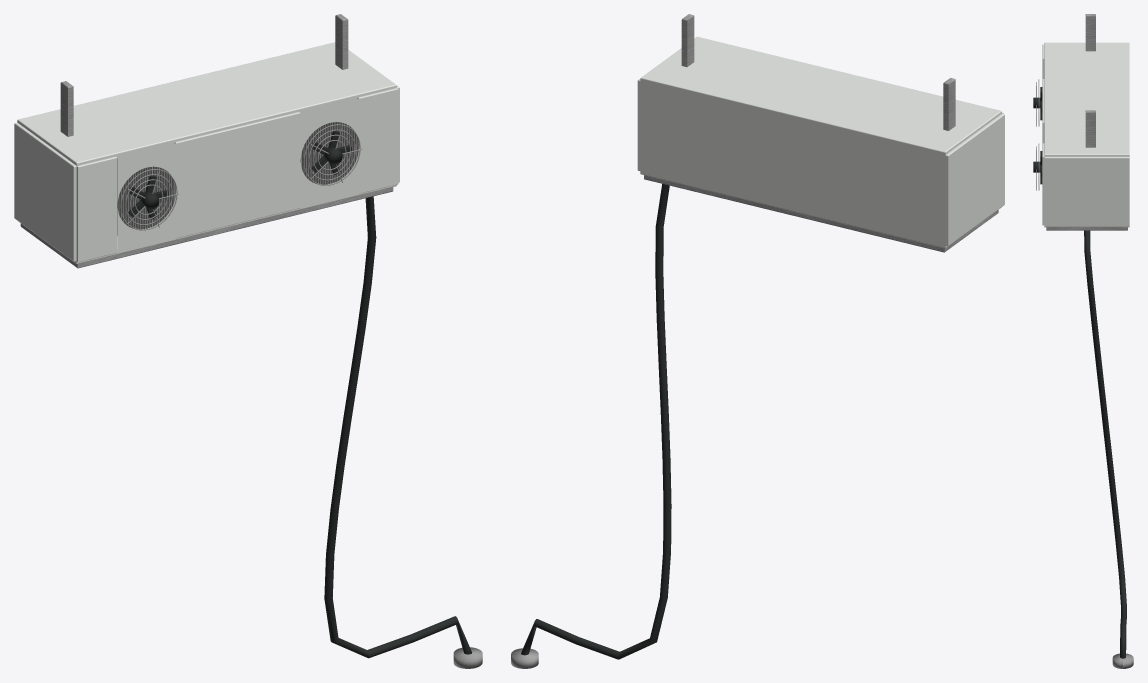
The model's file is cold_room_evaporator.glb.
The picture shows the model from 3 angles, left to right: view 1: azimuth 30°, elevation 25°; view 2: azimuth 150°, elevation 25°; view 3: azimuth 270°, elevation 25°; orthographic projection. The views are drawn at different scales.
Parts seen in each view (by area): view 1: HF_ROOM_S22_EvaporatorCasingEdge.001, HF_ROOM_S22_EvaporatorFacePlate.001, HF_ROOM_S22_EvaporatorCasingSide, HF_ROOM_S22_CondensateDrain, HF_ROOM_S22_EvaporatorFacePlate, HF_ROOM_S22_EvaporatorFacePlate.002, HF_ROOM_S22_EvaporatorDripTray, HF_ROOM_S22_EvaporatorFaceArc.003, HF_ROOM_S22_EvaporatorFaceArc.001, HF_ROOM_S22_EvaporatorFaceArc.002, HF_ROOM_S22_EvaporatorFaceArc, HF_ROOM_S22_EvaporatorHanger.001 (+2 smaller); view 2: HF_ROOM_S22_EvaporatorCasingBack, HF_ROOM_S22_EvaporatorCasingEdge.001, HF_ROOM_S22_EvaporatorCasingSide, HF_ROOM_S22_CondensateDrain, HF_ROOM_S22_EvaporatorDripTray, HF_ROOM_S22_EvaporatorCasingEdge; view 3: HF_ROOM_S22_EvaporatorCasingEdge.001, HF_ROOM_S22_EvaporatorCasingSide.001, HF_ROOM_S22_CondensateDrain, HF_ROOM_S22_EvaporatorHanger.001, HF_ROOM_S22_EvaporatorHanger, HF_ROOM_S22_EvaporatorDripTray, HF_ROOM_S22_CondensateDrainInlet, HF_ROOM_S22_EvaporatorFacePlate.002, HF_ROOM_S22_EvaporatorFacePlate.001.
Part boxes in pixels (<box>): HF_ROOM_S22_EvaporatorCasingEdge.001: <box>17,42,396,165</box>; HF_ROOM_S22_EvaporatorFacePlate.001: <box>174,112,300,238</box>; HF_ROOM_S22_EvaporatorCasingSide: <box>14,122,76,261</box>; HF_ROOM_S22_CondensateDrain: <box>324,196,471,658</box>; HF_ROOM_S22_EvaporatorFacePlate: <box>76,156,117,262</box>; HF_ROOM_S22_EvaporatorFacePlate.002: <box>357,88,398,193</box>; HF_ROOM_S22_EvaporatorDripTray: <box>20,187,393,268</box>; HF_ROOM_S22_EvaporatorFaceArc.003: <box>300,98,359,158</box>; HF_ROOM_S22_EvaporatorFaceArc.001: <box>117,143,176,201</box>; HF_ROOM_S22_EvaporatorFaceArc.002: <box>300,149,359,208</box>; HF_ROOM_S22_EvaporatorFaceArc: <box>117,192,176,252</box>; HF_ROOM_S22_EvaporatorHanger.001: <box>335,14,348,69</box>; HF_ROOM_S22_EvaporatorCasingBack: <box>640,81,945,244</box>; HF_ROOM_S22_EvaporatorCasingEdge.001: <box>640,36,1001,155</box>; HF_ROOM_S22_EvaporatorCasingSide: <box>942,114,1004,246</box>; HF_ROOM_S22_CondensateDrain: <box>521,184,671,659</box>; HF_ROOM_S22_EvaporatorDripTray: <box>644,175,998,252</box>; HF_ROOM_S22_EvaporatorCasingEdge: <box>640,171,1001,248</box>; HF_ROOM_S22_EvaporatorCasingEdge.001: <box>1044,42,1129,156</box>; HF_ROOM_S22_EvaporatorCasingSide.001: <box>1044,156,1129,226</box>; HF_ROOM_S22_CondensateDrain: <box>1084,230,1126,658</box>; HF_ROOM_S22_EvaporatorHanger.001: <box>1085,110,1095,147</box>; HF_ROOM_S22_EvaporatorHanger: <box>1085,14,1095,51</box>; HF_ROOM_S22_EvaporatorDripTray: <box>1046,227,1127,230</box>; HF_ROOM_S22_CondensateDrainInlet: <box>1112,653,1133,668</box>; HF_ROOM_S22_EvaporatorFacePlate.002: <box>1042,143,1044,225</box>; HF_ROOM_S22_EvaporatorFacePlate.001: <box>1042,79,1044,143</box>.
Bounding box in the file's own units: 2.02 × 2.92 × 0.5275.
Materials: 3 (1 with a texture image).
